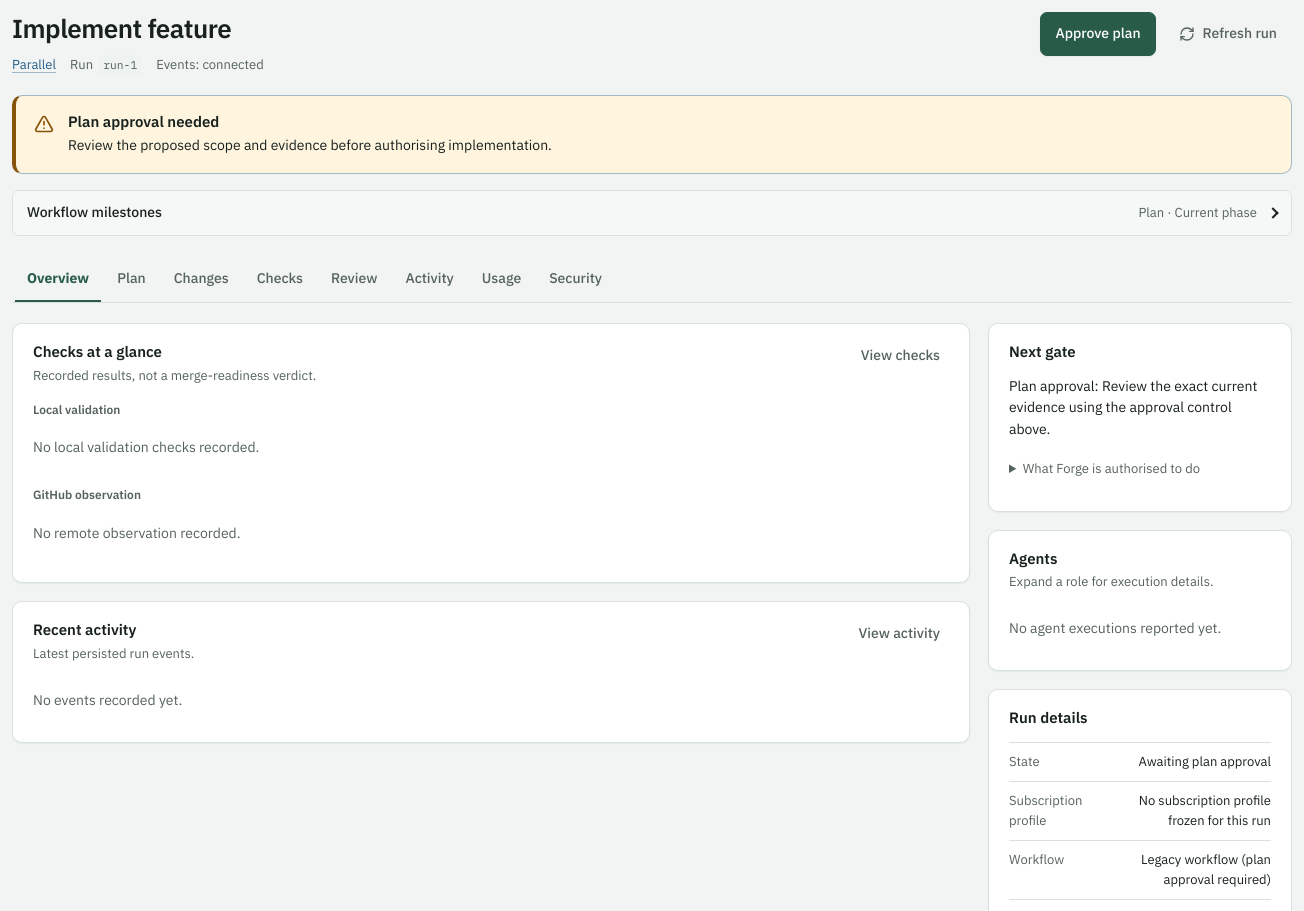
Test: a mismatched refreshed projection disables actions and reports unavailable state
Click the button "Refresh run".
click(1228, 34)  # box x1=1164 y1=12 x2=1292 y2=56
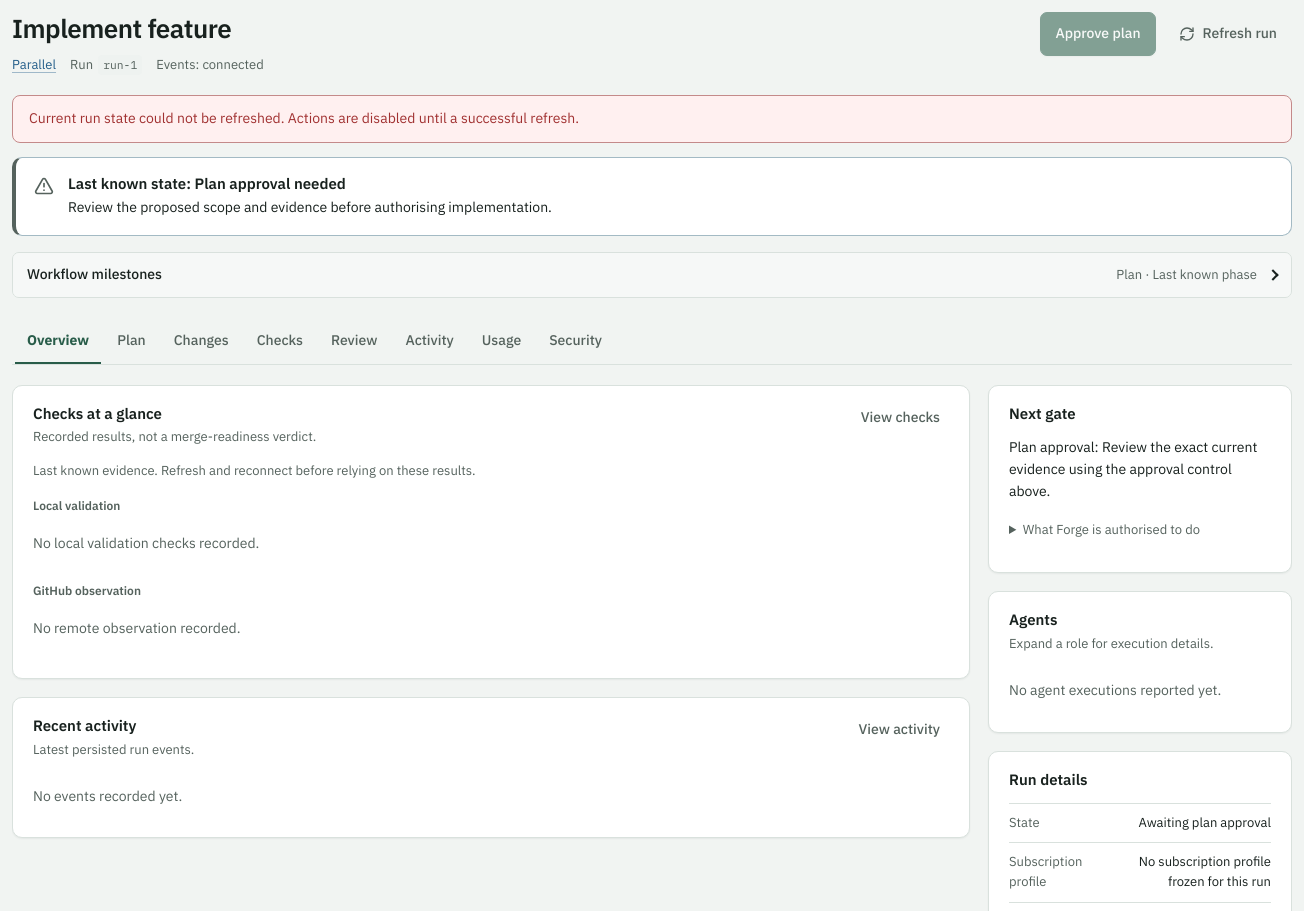
Expected: the 2nd message shows "could not be refreshed", x1=29 y1=109 x2=579 y2=127
Expected: the button "Approve plan" is disabled, x1=1040 y1=12 x2=1156 y2=56
